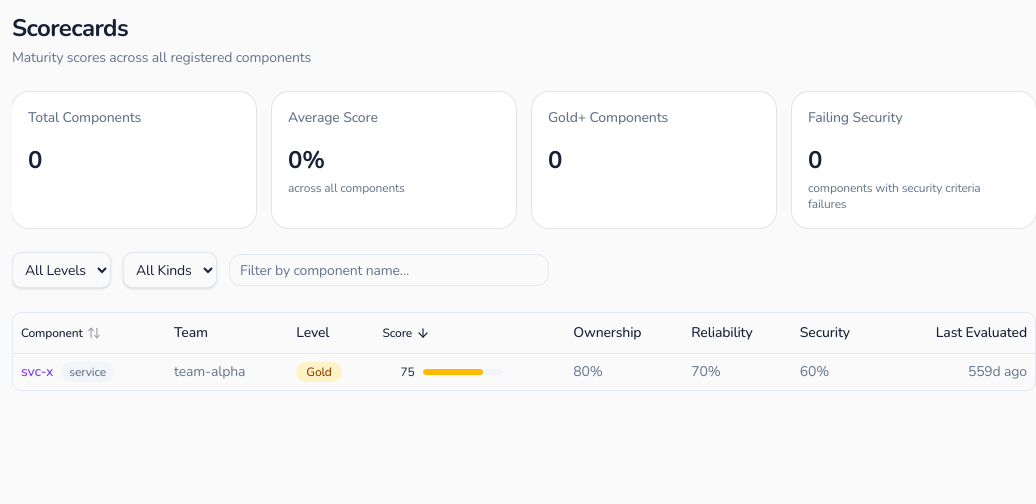
Test: ScorecardsClient › shows no-match message when filters exclude all rows
Expected: the link "svc-x" is shown, [21,362,53,380]
Select "Platinum" in the dropdown named "Filter by level" at (62, 270), box [12,252,111,288]
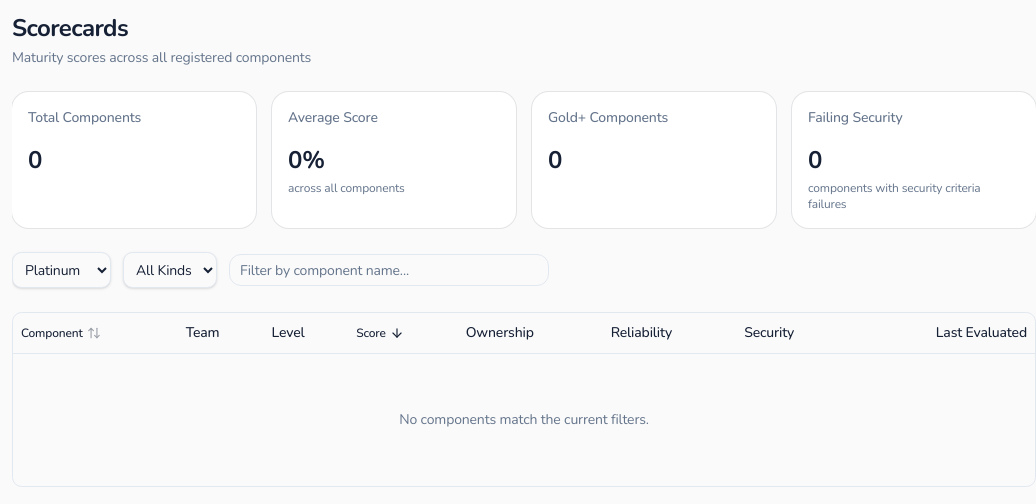
Expected: the text "No components match the current filters." is shown, [399,410,649,428]
